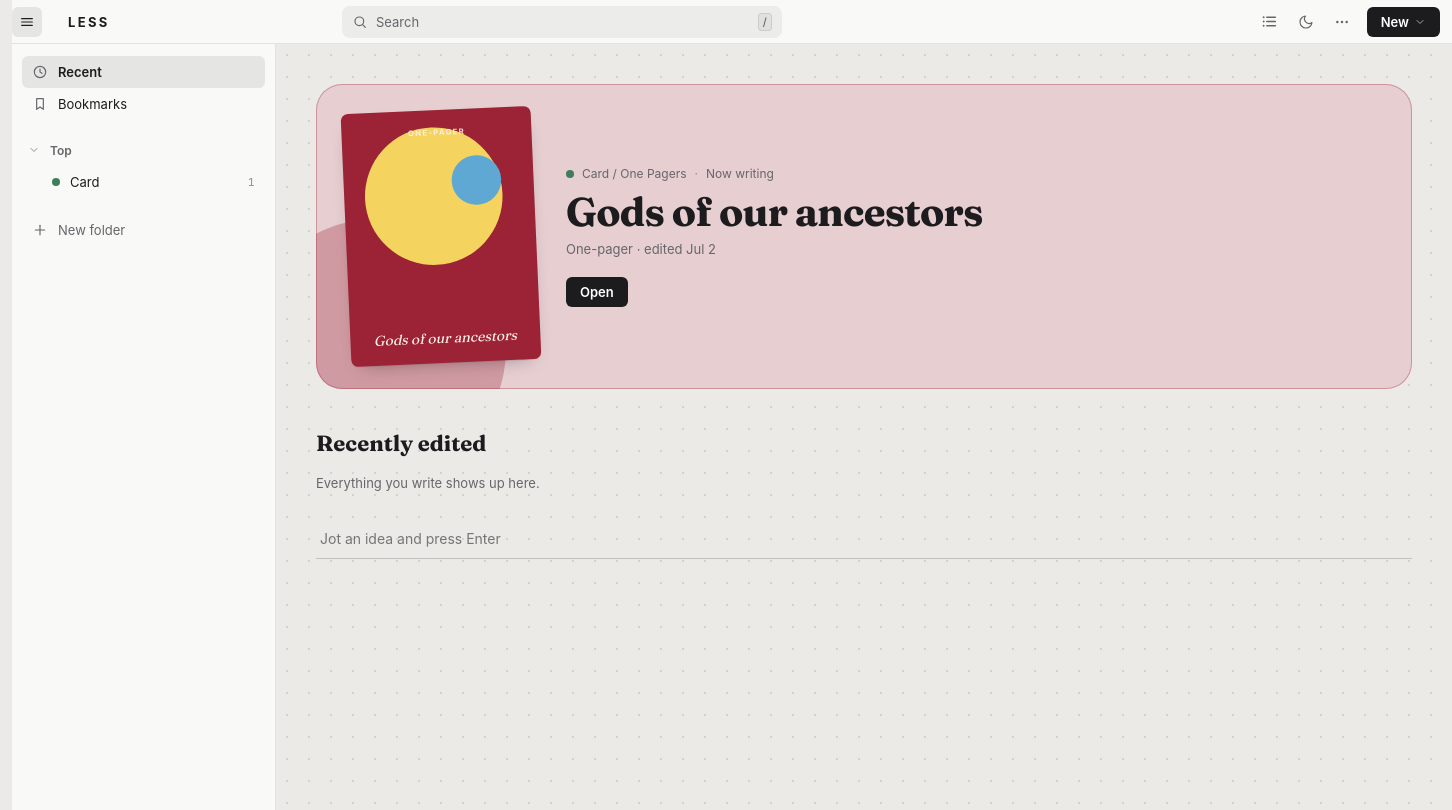
Test: ProjectsHome desk › reads a document's kind from the folder it is filed in
Click the button with class "lib-project" at (56, 182), box x1=52 y1=174 x2=255 y2=190
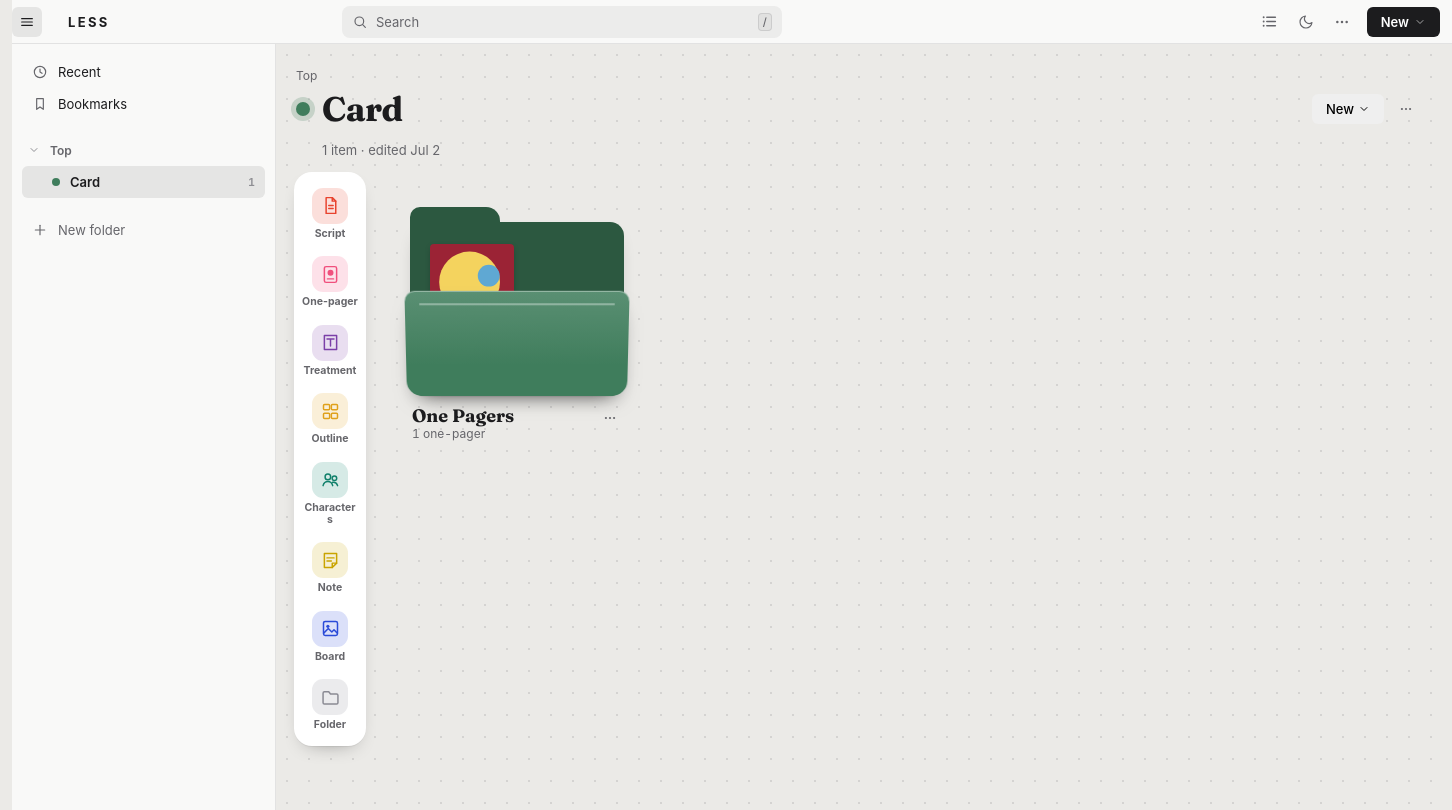
Expected: the text with class "dk-folder-count" reads "1 one-pager", x1=412 y1=426 x2=485 y2=442
